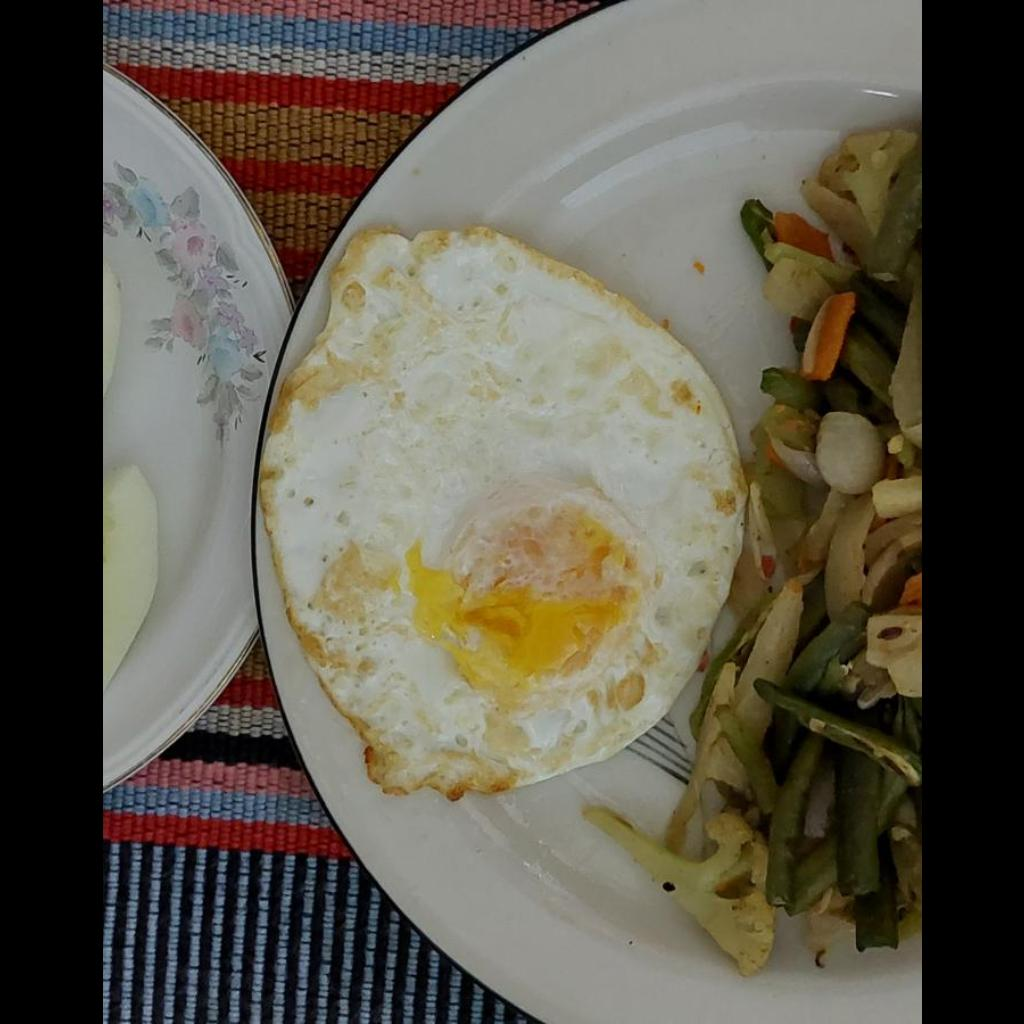egg-poached: (257, 228, 741, 798)
guava: (102, 465, 155, 687), (102, 262, 119, 397)
vegetable: (602, 123, 920, 985)
